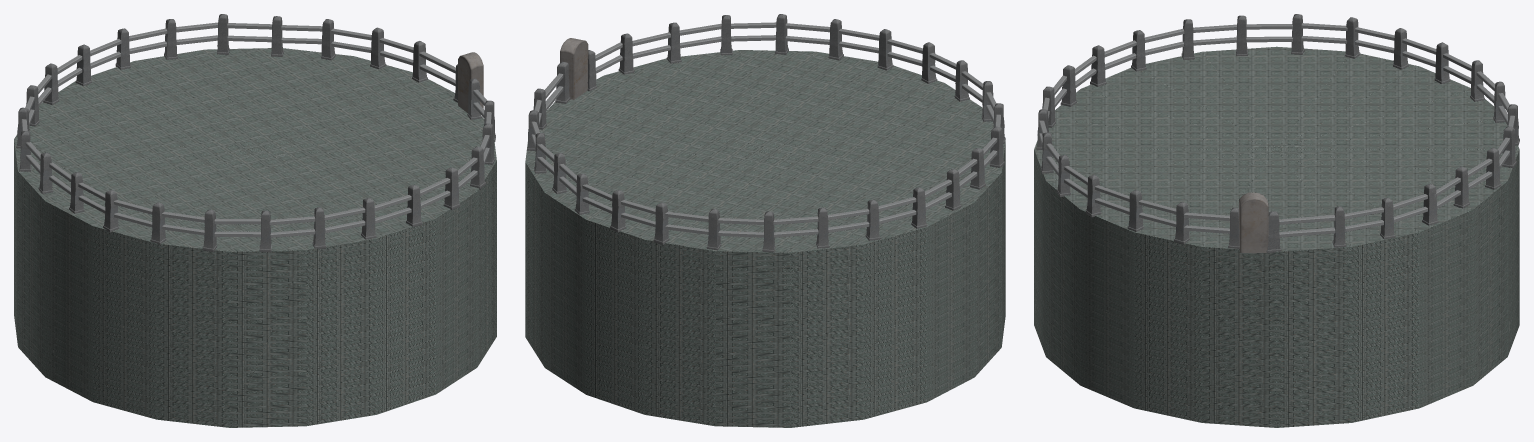
The model's file is Stage.fbx.
3 renders of one model, left to right at view 1: azimuth 30°, elevation 25°; view 2: azimuth 150°, elevation 25°; view 3: azimuth 270°, elevation 25°, orthographic.
Parts seen in each view (by area): view 1: Stage, SM_GD_Monument02a, SM_SD_Stone01a_17, SM_SD_Stone01a_15, SM_SD_Stone01a_16, SM_SD_Stone01a_18, SM_SD_Stone01a_14, SM_SD_Stone01a_19, SM_SD_Stone01a_3, SM_SD_Stone01a_1, SM_SD_Stone01a_4, SM_SD_Stone01a_5 (+15 smaller); view 2: Stage, SM_GD_Monument02a, SM_SD_Stone01a_6, SM_SD_Stone01a_8, SM_SD_Stone01a_7, SM_SD_Stone01a_20, SM_SD_Stone01a_22, SM_SD_Stone01a_9, SM_SD_Stone01a_23, SM_SD_Stone01a_21, SM_SD_Stone01a_19, SM_SD_Stone01a_10 (+14 smaller); view 3: Stage, SM_GD_Monument02a, SM_SD_Stone01a_11, SM_SD_Stone01a_12, SM_SD_Stone01a_14, SM_SD_Stone01a_13, SM_SD_Stone01a_10, SM_SD_Stone01a_23, SM_SD_Stone01a_25, SM_SD_Stone01a, SM_SD_Stone01a_27, SM_SD_Stone01a_1 (+15 smaller).
Part boxes in pixels (left/top/right/bottom): Stage: left=14, top=48, right=496, bottom=427; SM_GD_Monument02a: left=458, top=52, right=483, bottom=112; SM_SD_Stone01a_17: left=269, top=207, right=326, bottom=249; SM_SD_Stone01a_15: left=162, top=209, right=217, bottom=251; SM_SD_Stone01a_16: left=214, top=210, right=271, bottom=252; SM_SD_Stone01a_18: left=324, top=198, right=376, bottom=239; SM_SD_Stone01a_14: left=114, top=200, right=166, bottom=244; SM_SD_Stone01a_19: left=374, top=184, right=422, bottom=227; SM_SD_Stone01a_3: left=217, top=14, right=271, bottom=54; SM_SD_Stone01a_1: left=321, top=19, right=371, bottom=60; SM_SD_Stone01a_4: left=164, top=19, right=217, bottom=59; SM_SD_Stone01a_5: left=115, top=28, right=167, bottom=69; Stage: left=525, top=50, right=1005, bottom=427; SM_GD_Monument02a: left=560, top=38, right=588, bottom=99; SM_SD_Stone01a_6: left=665, top=209, right=721, bottom=250; SM_SD_Stone01a_8: left=773, top=207, right=829, bottom=248; SM_SD_Stone01a_7: left=718, top=211, right=775, bottom=252; SM_SD_Stone01a_20: left=775, top=14, right=829, bottom=54; SM_SD_Stone01a_22: left=666, top=22, right=721, bottom=63; SM_SD_Stone01a_9: left=827, top=199, right=880, bottom=240; SM_SD_Stone01a_23: left=618, top=32, right=670, bottom=74; SM_SD_Stone01a_21: left=720, top=15, right=776, bottom=55; SM_SD_Stone01a_19: left=828, top=19, right=879, bottom=60; SM_SD_Stone01a_10: left=878, top=187, right=927, bottom=228; Stage: left=1034, top=46, right=1519, bottom=427; SM_GD_Monument02a: left=1239, top=192, right=1268, bottom=253; SM_SD_Stone01a_11: left=1291, top=14, right=1347, bottom=54; SM_SD_Stone01a_12: left=1236, top=15, right=1292, bottom=56; SM_SD_Stone01a_14: left=1131, top=28, right=1184, bottom=71; SM_SD_Stone01a_13: left=1181, top=19, right=1236, bottom=59; SM_SD_Stone01a_10: left=1344, top=17, right=1394, bottom=58; SM_SD_Stone01a_23: left=1138, top=200, right=1189, bottom=244; SM_SD_Stone01a_25: left=1184, top=207, right=1239, bottom=248; SM_SD_Stone01a: left=1344, top=197, right=1395, bottom=239; SM_SD_Stone01a_27: left=1289, top=206, right=1346, bottom=247; SM_SD_Stone01a_1: left=1393, top=183, right=1438, bottom=225.
Bounding box in the file's own units: 10.02 × 5.21 × 10.01.
